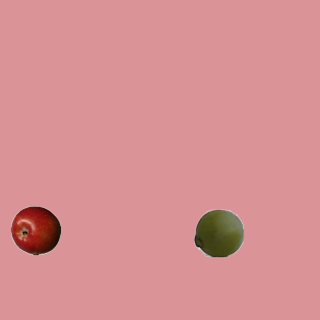Apple Braeburn: (10, 205, 60, 255)
Grape White 4: (193, 207, 243, 257)
